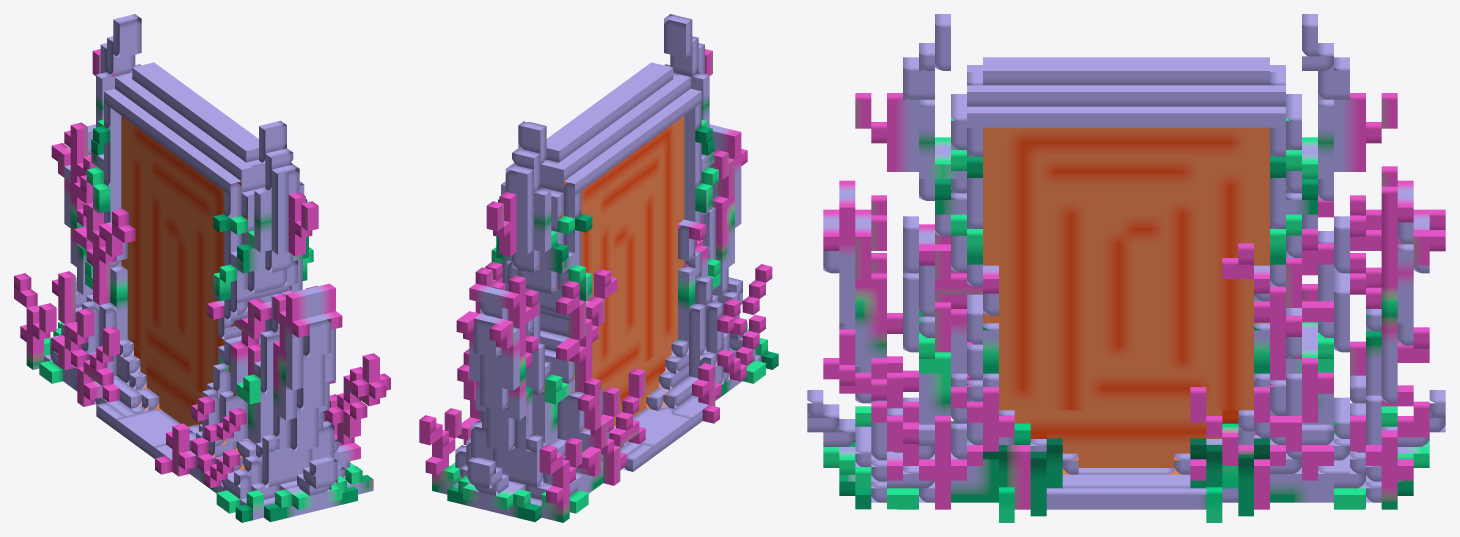
File: PortalAtlantis.dae
3 renders of one model, left to right at view 1: azimuth 30°, elevation 25°; view 2: azimuth 150°, elevation 25°; view 3: azimuth 270°, elevation 25°, orthographic. The views are drawn at different scales.
Visible parts, largest first — view 1: Node-local; view 2: Node-local; view 3: Node-local.
Boxes of the visible parts, bbox=[...] form: Node-local: bbox=[14, 14, 390, 522]; Node-local: bbox=[419, 14, 778, 522]; Node-local: bbox=[807, 14, 1445, 522].
Size of the model in its own units: 15 by 31 by 40.
